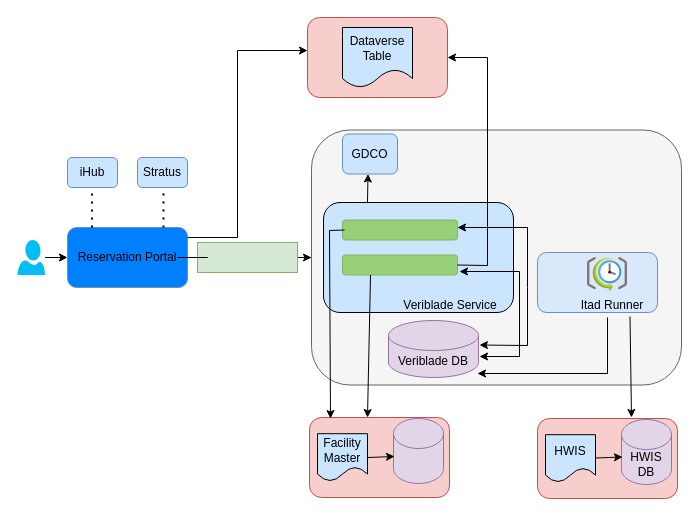
This 699x516 diagram has some shape labels left out. The shapes that lost their labels are listed below. From the top down, each one's box as (x1, y1, x2, y2) in pixels, then its label:
(342, 219, 458, 240): CIS workflow
(196, 242, 298, 272): Project Greenlit
(342, 254, 458, 275): Reuse CIS workflow
(392, 418, 444, 484): FM DB
